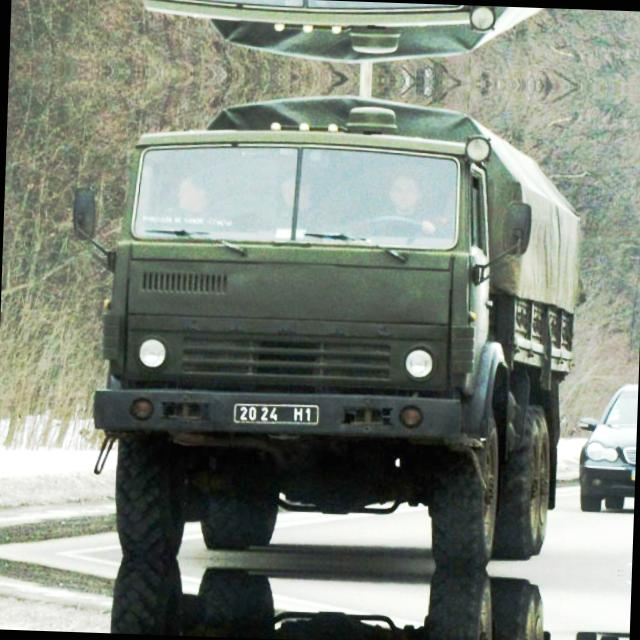military: (230, 399, 323, 428)
